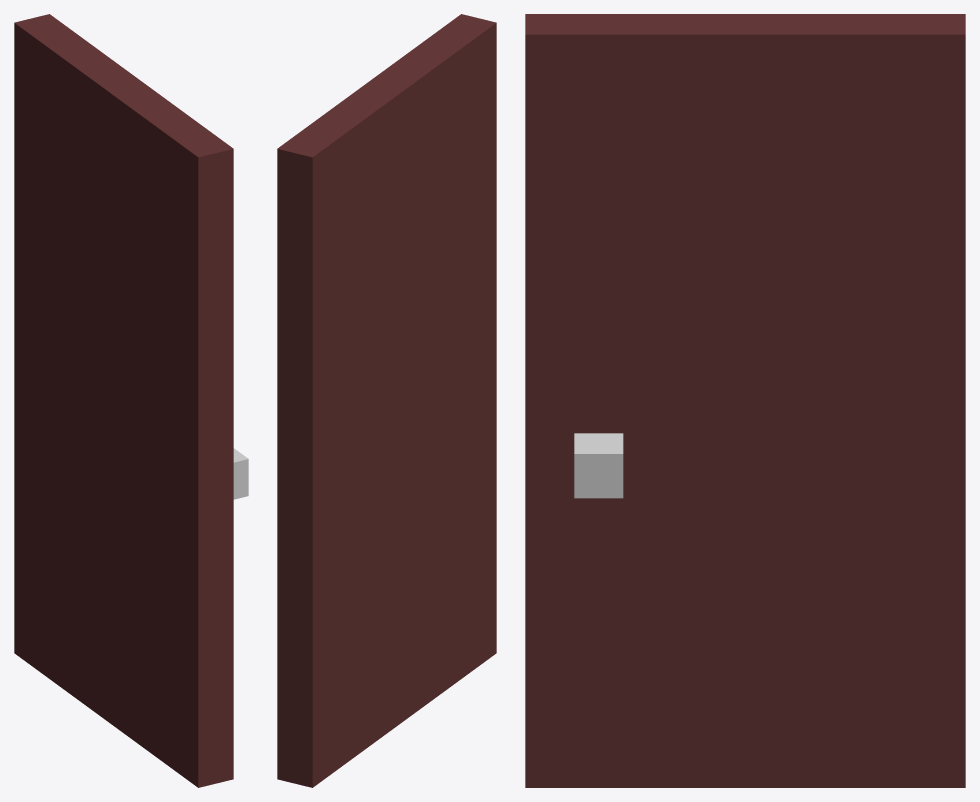
Rendered from Bank-5.obj.
3 views of the same model, side by side, from view 1: azimuth 30°, elevation 25°; view 2: azimuth 150°, elevation 25°; view 3: azimuth 270°, elevation 25° (orthographic). The views are drawn at different scales.
Parts seen in each view (by area): view 1: Bank-5; view 2: Bank-5; view 3: Bank-5.
Boxes of the visible parts, bbox=[...] form: Bank-5: bbox=[14, 14, 248, 787]; Bank-5: bbox=[277, 14, 496, 787]; Bank-5: bbox=[525, 14, 965, 787].
Size of the model in its own units: 2 by 17 by 9.
1 material, 1 textured.
